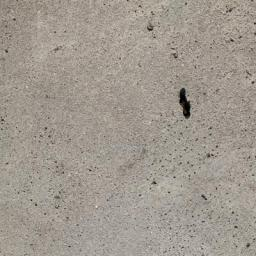FOD: (178, 87, 198, 121)
